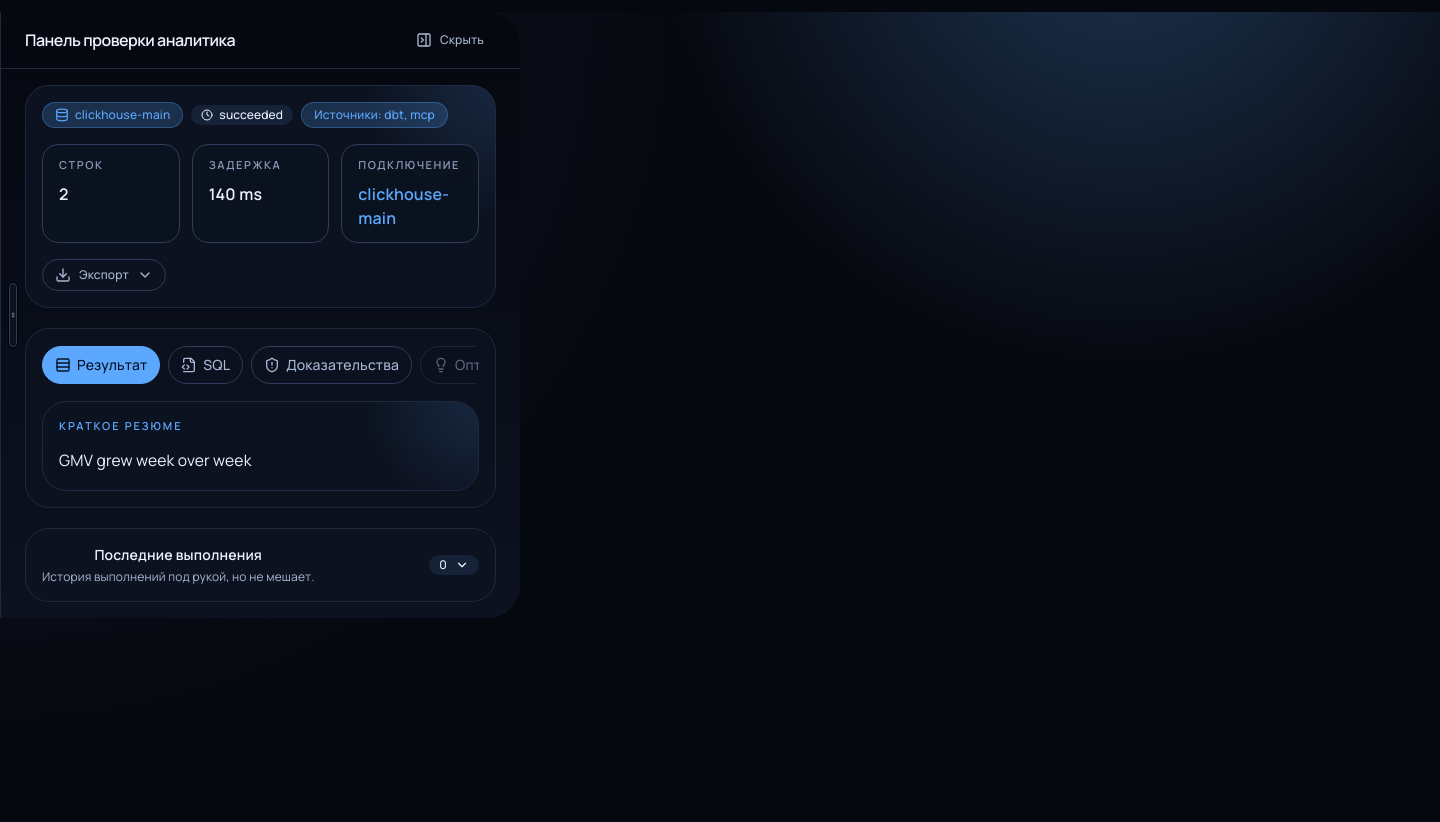
Scenario: ResultSurface › starts html export download from persisted snapshot
What coordinates should you click on to do the following:
click the button "Экспорт"
I would click on:
 (104, 274)
Its box is [42,258,166,290].
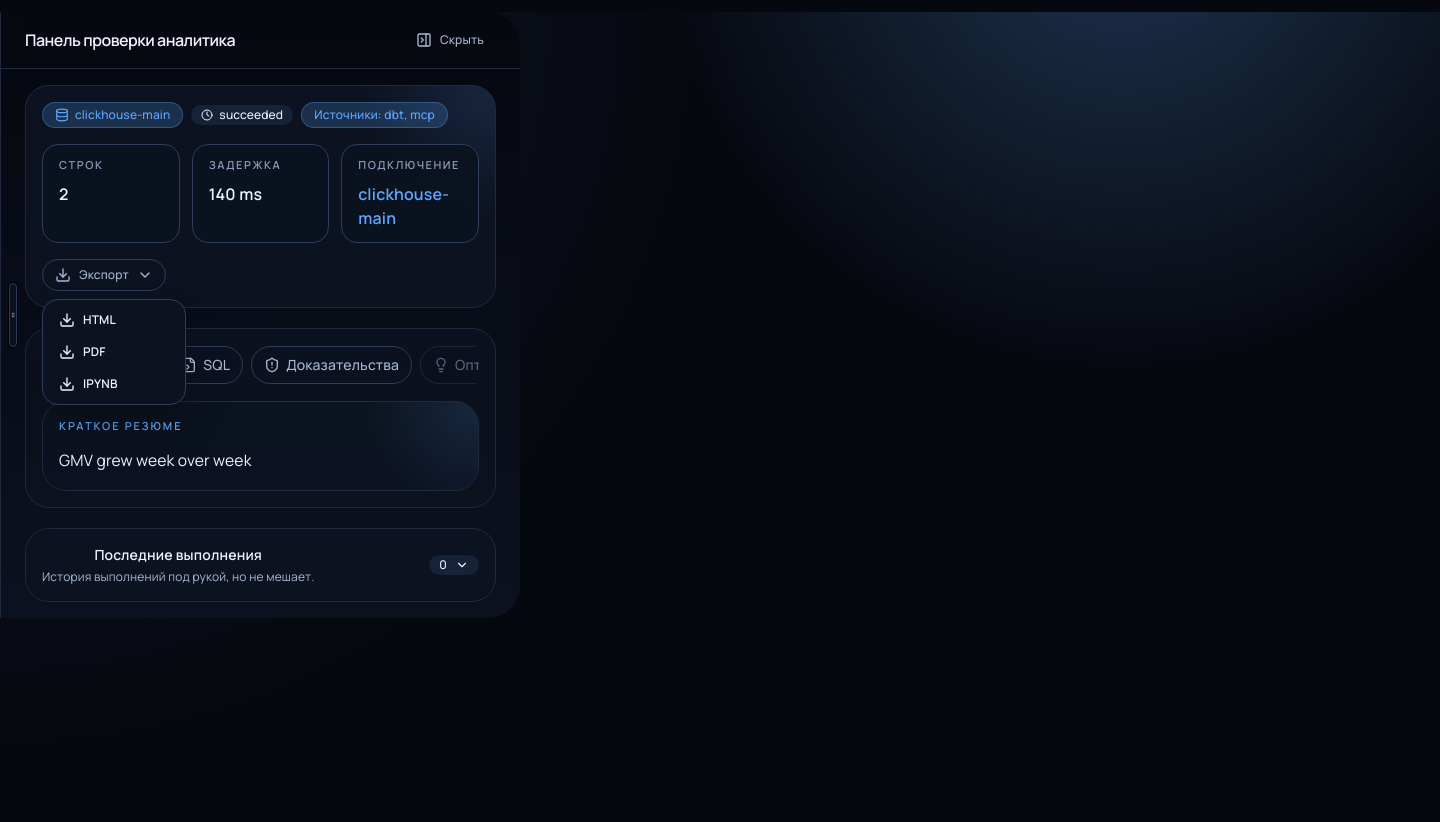
What coordinates should you click on to do the following:
click the menu item "HTML"
I would click on:
 (114, 320)
Its box is [47,304,181,336].
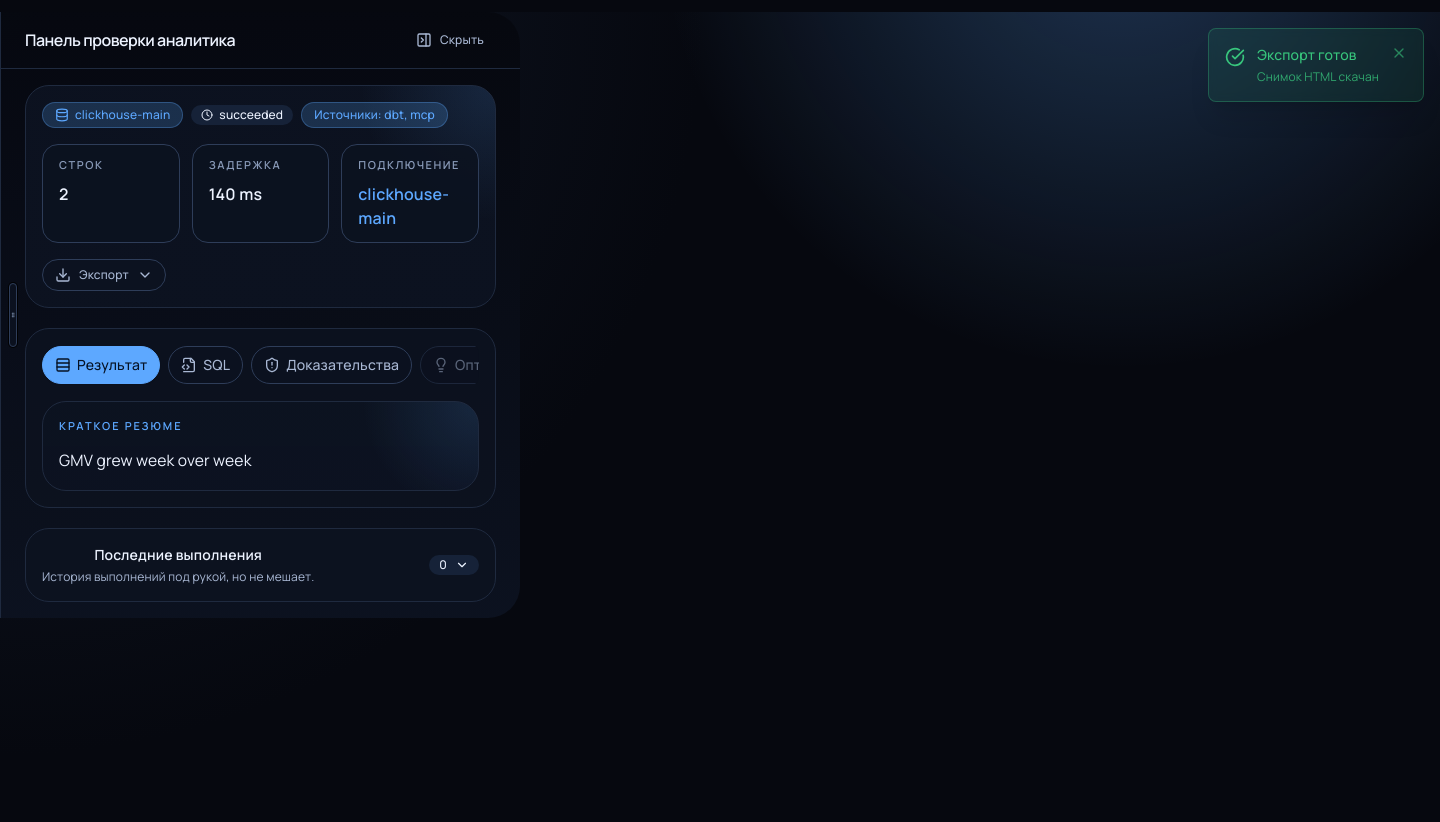
Now the text "Экспорт готов" is shown, box [1257,45,1356,64]
